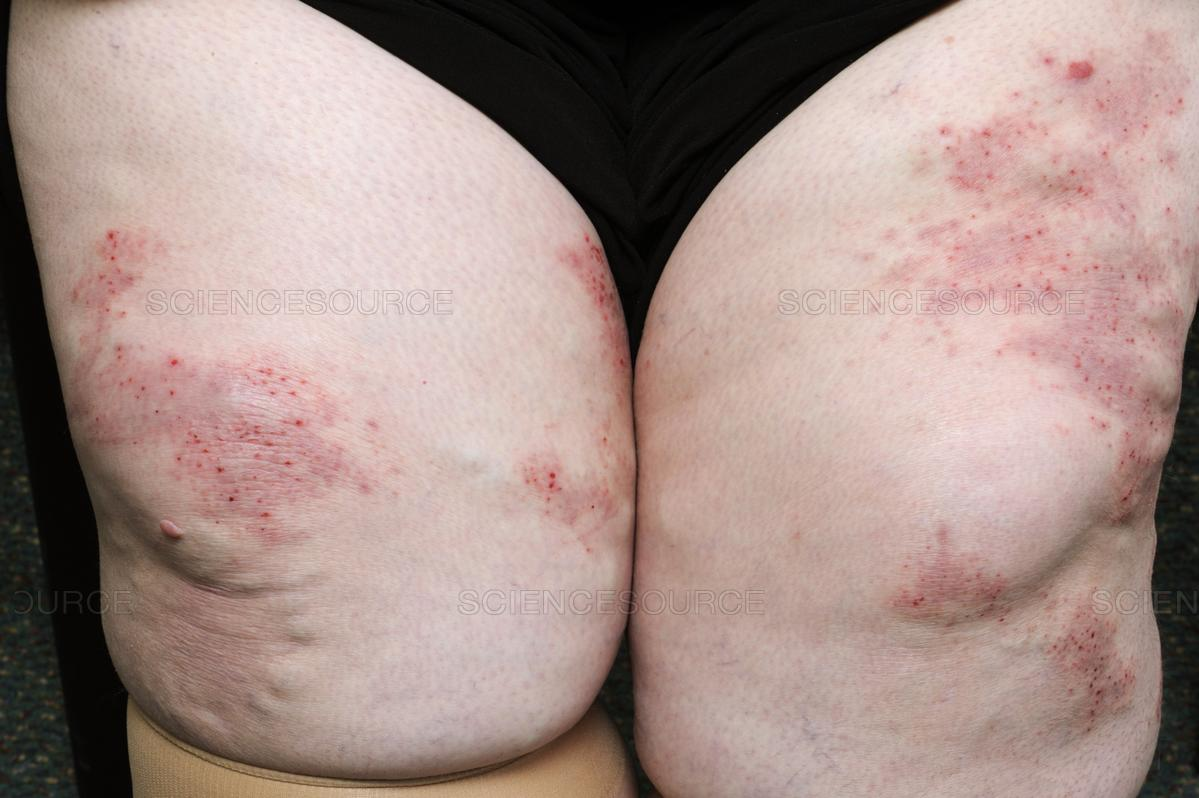Eczema: (43, 183, 586, 526), (921, 35, 1199, 550)
